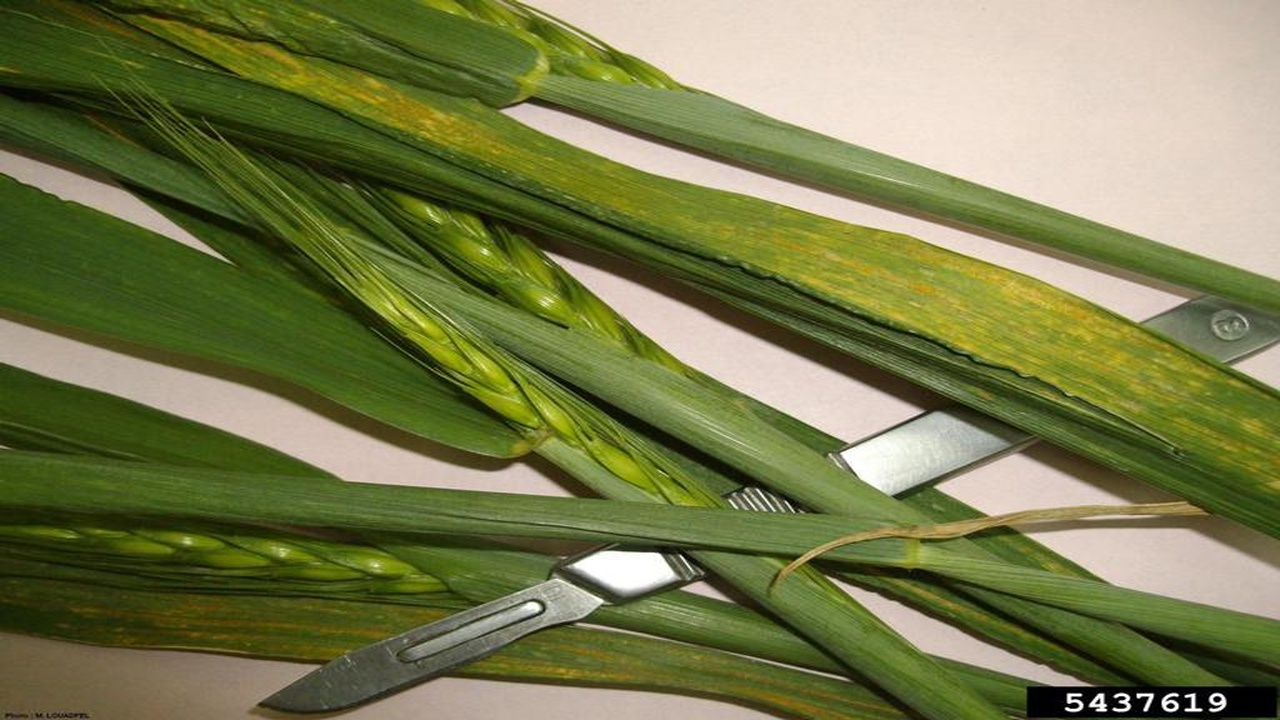stripe_rust: (166, 22, 1279, 488), (1, 578, 331, 668)
